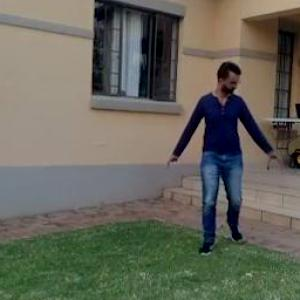land: (150, 45, 286, 267)
